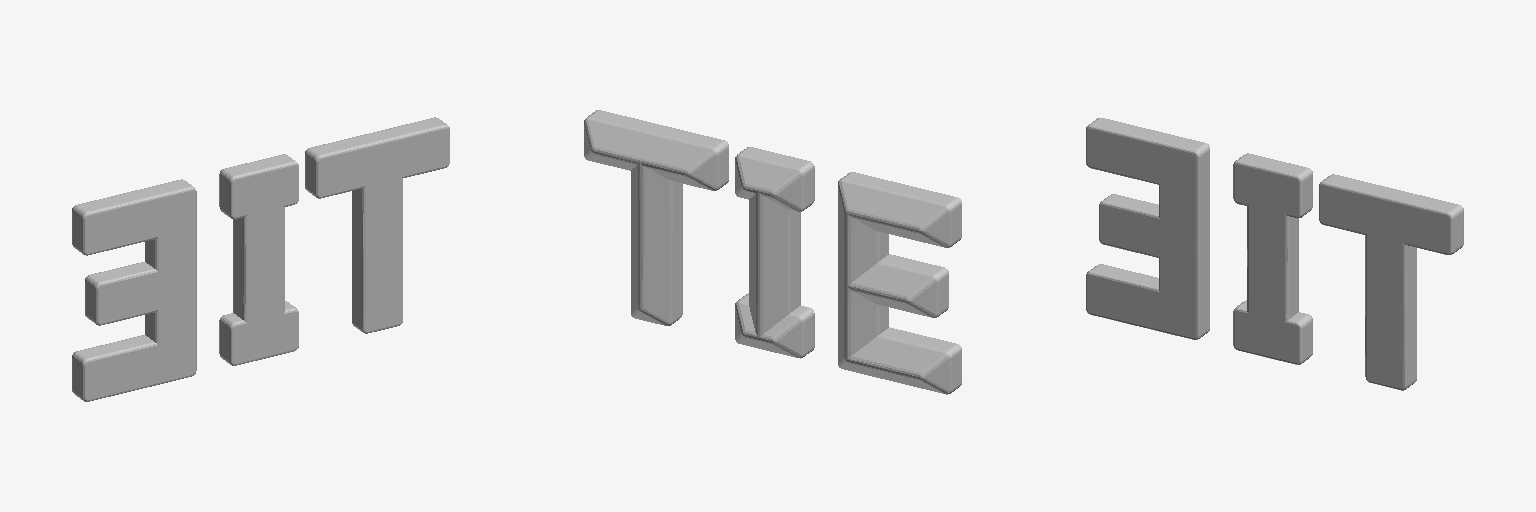
The model's file is tie.obj.
3 renders of one model, left to right at view 1: azimuth 30°, elevation 25°; view 2: azimuth 150°, elevation 25°; view 3: azimuth 330°, elevation 25°, orthographic.
Parts seen in each view (by area): view 1: Object.3, Object.1, Object.2; view 2: Object.3, Object.1, Object.2; view 3: Object.3, Object.1, Object.2.
Part boxes in pixels (x1,y1,x2,y2): Object.3: (72,179,196,401); Object.1: (305,117,449,333); Object.2: (219,154,298,365); Object.3: (838,172,961,394); Object.1: (584,110,728,325); Object.2: (735,147,814,358); Object.3: (1086,118,1209,339); Object.1: (1319,174,1463,390); Object.2: (1233,153,1312,364).
Size of the model in its own units: 39.43 by 19.47 by 4.22.